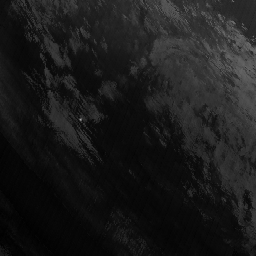Target: (78, 116, 83, 123)
